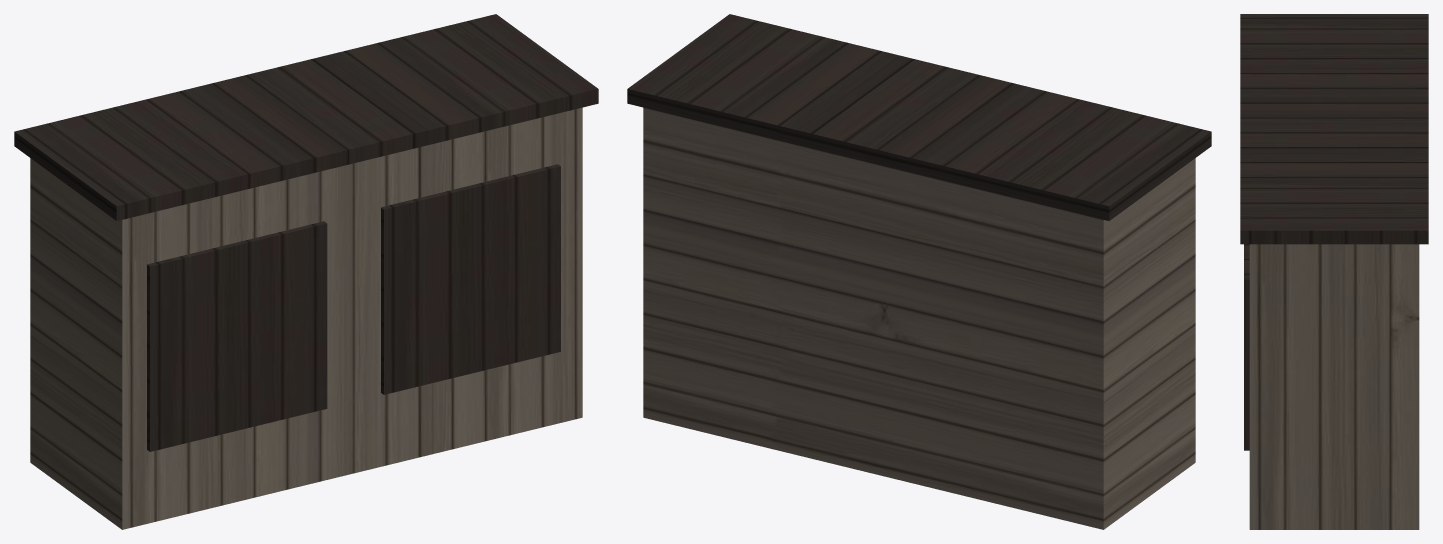
File: cabinet_low_01.glb
3 views of the same model, side by side, from view 1: azimuth 30°, elevation 25°; view 2: azimuth 150°, elevation 25°; view 3: azimuth 270°, elevation 25° (orthographic). The views are drawn at different scales.
Parts seen in each view (by area): view 1: cabinet_low_01; view 2: cabinet_low_01; view 3: cabinet_low_01.
Boxes of the visible parts, x1=… form: cabinet_low_01: x1=14, y1=14, x2=598, y2=529; cabinet_low_01: x1=627, y1=14, x2=1211, y2=529; cabinet_low_01: x1=1240, y1=14, x2=1428, y2=529.
Size of the model in its own units: 1.36 by 0.89 by 0.5.
Materials: 2 (2 with a texture image).
